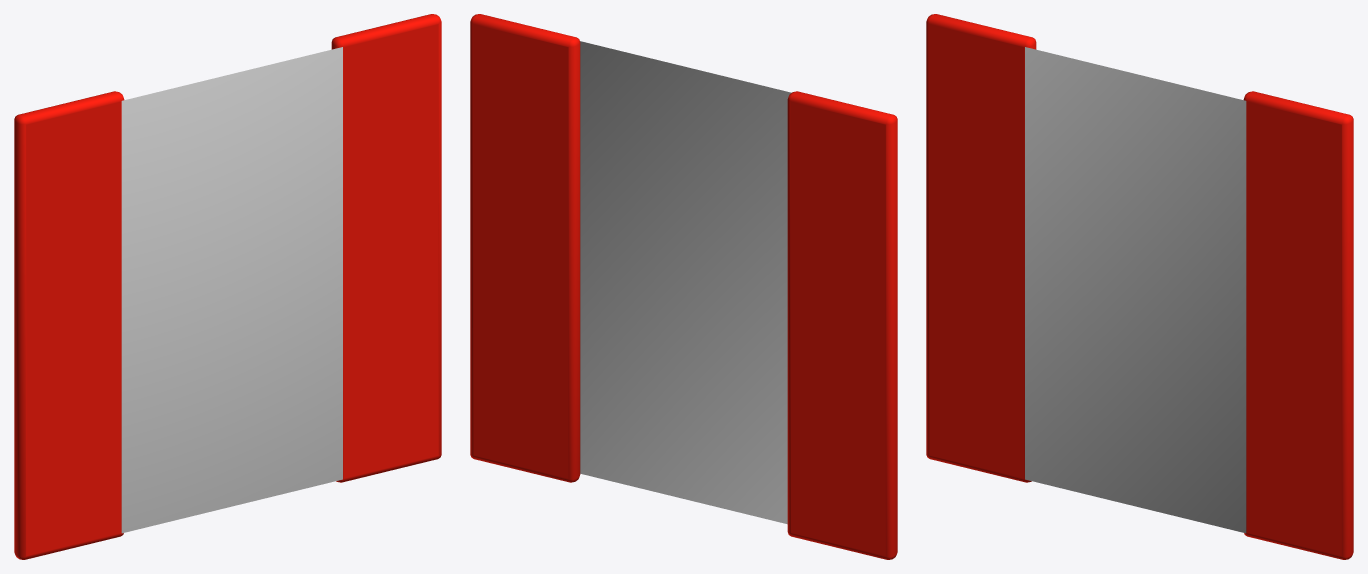
File: pauseButton.fbx
3 views of the same model, side by side, from view 1: azimuth 30°, elevation 25°; view 2: azimuth 150°, elevation 25°; view 3: azimuth 330°, elevation 25° (orthographic).
Parts seen in each view (by area): view 1: Cube.001; view 2: Cube.001; view 3: Cube.001.
Part boxes in pixels (box(x1,y1,x2,y2)): Cube.001: box(14, 14, 441, 559); Cube.001: box(470, 14, 897, 559); Cube.001: box(926, 14, 1353, 559).
Bounding box in the file's own units: 27.8 × 27.8 × 0.9943.
